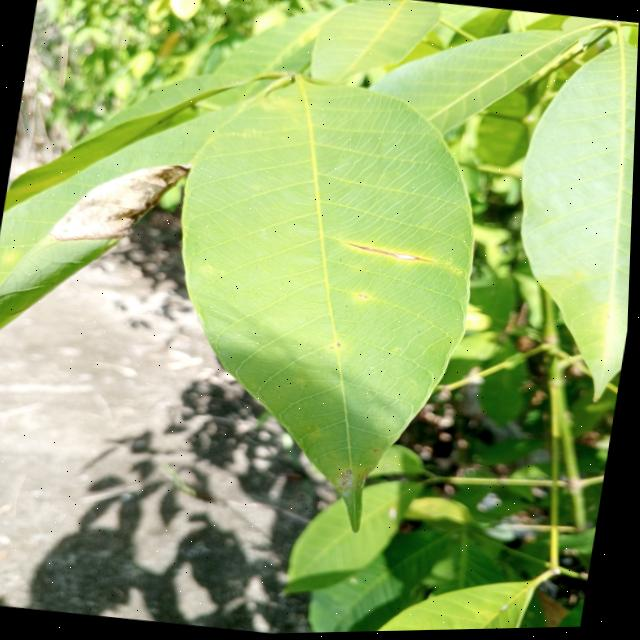Colletotrichum: (363, 296, 369, 300), (350, 472, 355, 476), (339, 345, 343, 347)
Corynespora: (344, 241, 437, 266)
Leaf-Blight: (49, 150, 193, 256)
